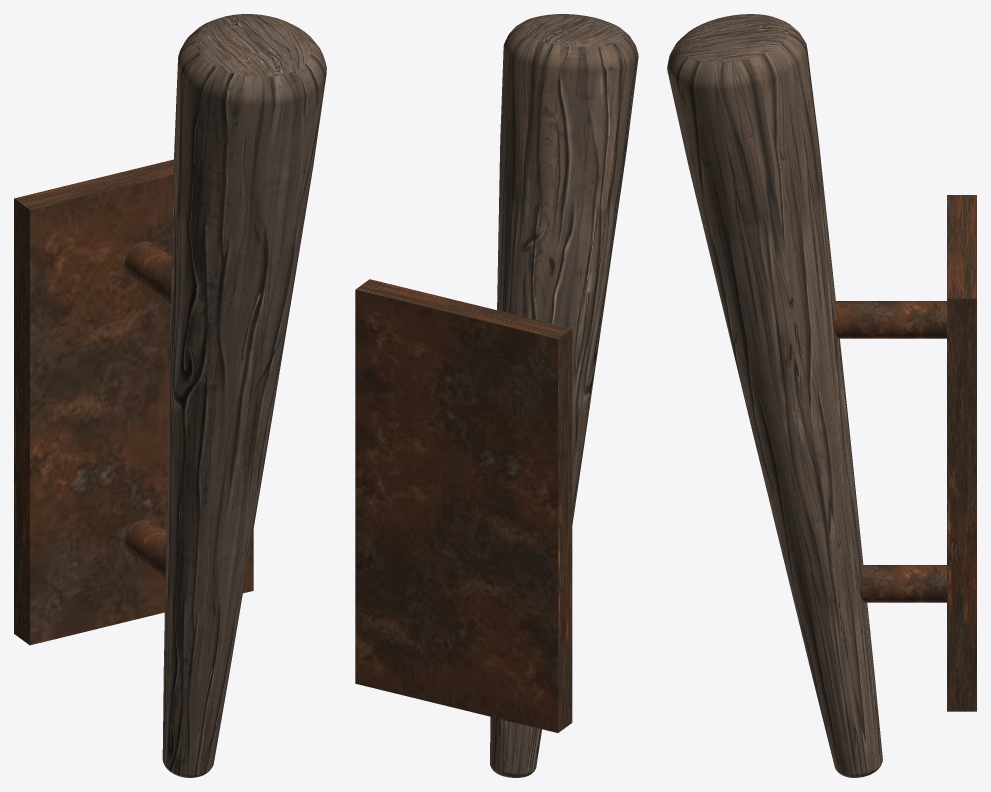
Rendered from CMSC425 Torch Model.fbx.
3 renders of one model, left to right at view 1: azimuth 30°, elevation 25°; view 2: azimuth 150°, elevation 25°; view 3: azimuth 270°, elevation 25°, orthographic. The views are drawn at different scales.
Parts seen in each view (by area): view 1: torch; view 2: torch; view 3: torch.
Part boxes in pixels (x1,y1,x2,y2): torch: (14, 14, 326, 777); torch: (355, 14, 638, 777); torch: (667, 14, 976, 777).
Bounding box in the file's own units: 0.9265 × 3.1 × 1.17.
Materials: 4 (4 with a texture image).
